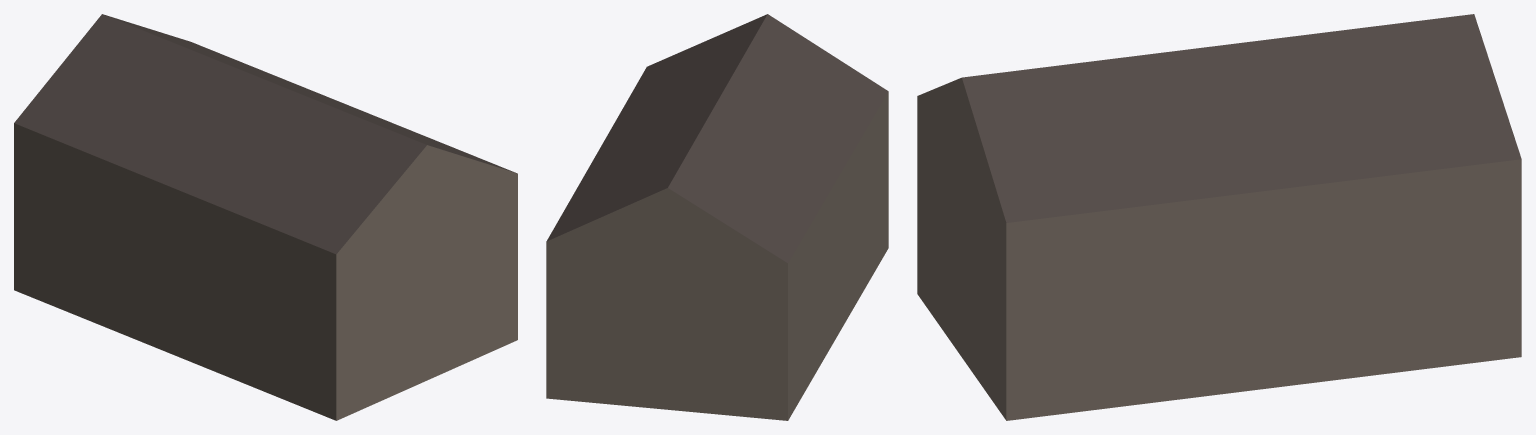
3 renders of one model, left to right at view 1: azimuth 30°, elevation 25°; view 2: azimuth 150°, elevation 25°; view 3: azimuth 270°, elevation 25°, orthographic. The views are drawn at different scales.
Visible parts, largest first — view 1: HP-w1198840835; view 2: HP-w1198840835; view 3: HP-w1198840835.
Part boxes in pixels (left/top/right/bottom): HP-w1198840835: left=14, top=14, right=517, bottom=420; HP-w1198840835: left=546, top=14, right=888, bottom=420; HP-w1198840835: left=917, top=14, right=1521, bottom=420.
Bounding box in the file's own units: 12.33 × 8.49 × 16.61.
